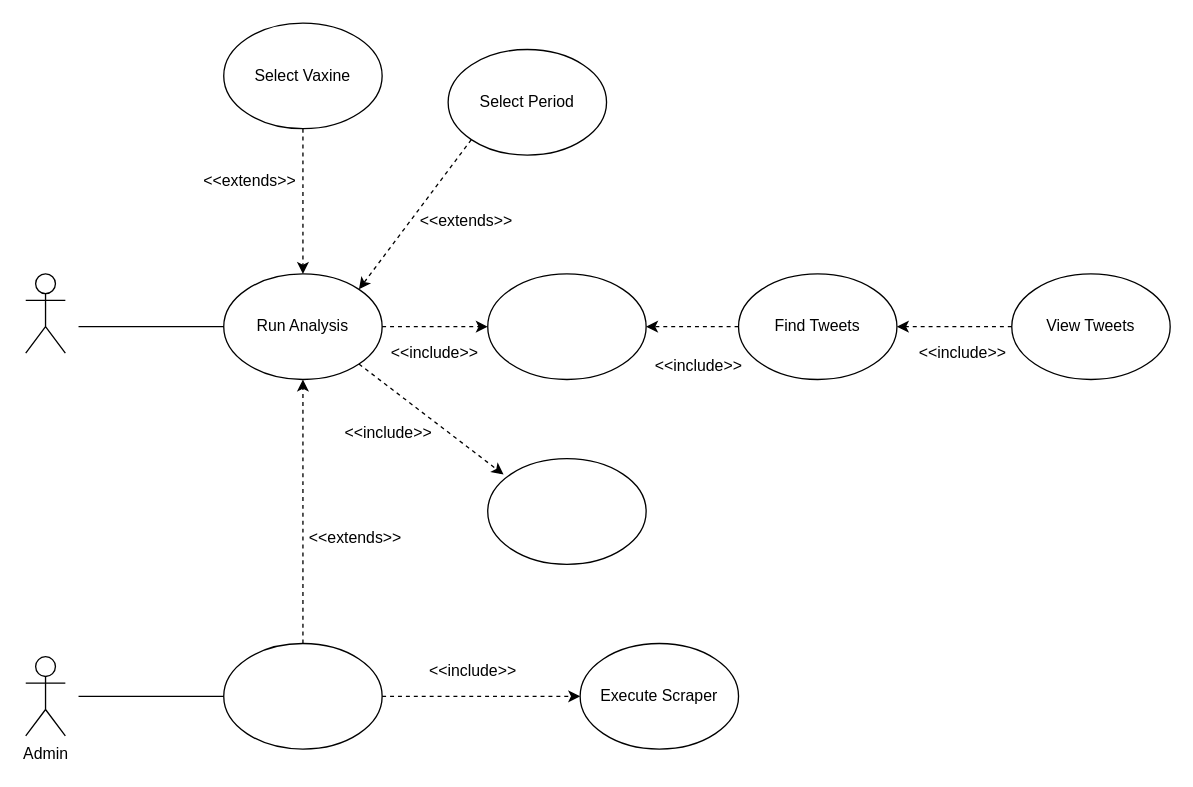
This 1193x787 diagram has some shape labels left out. The shapes that lost their labels are listed below. From the top down, each one's box as (x1, y1, x2, y2) in pixels, then its label:
(24, 273, 65, 353): User
(486, 273, 646, 380): Browse Tweets
(486, 457, 646, 564): View Total Number For Class
(222, 642, 382, 749): Retrive Tweet
